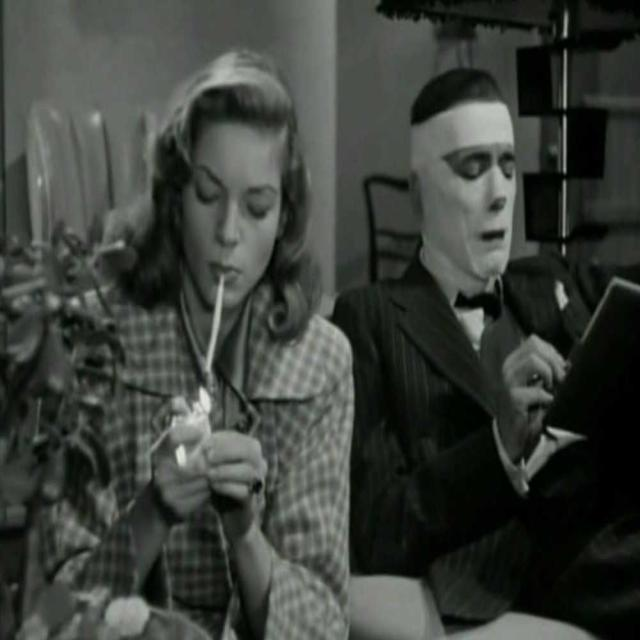Smooking: (201, 270, 236, 398)
